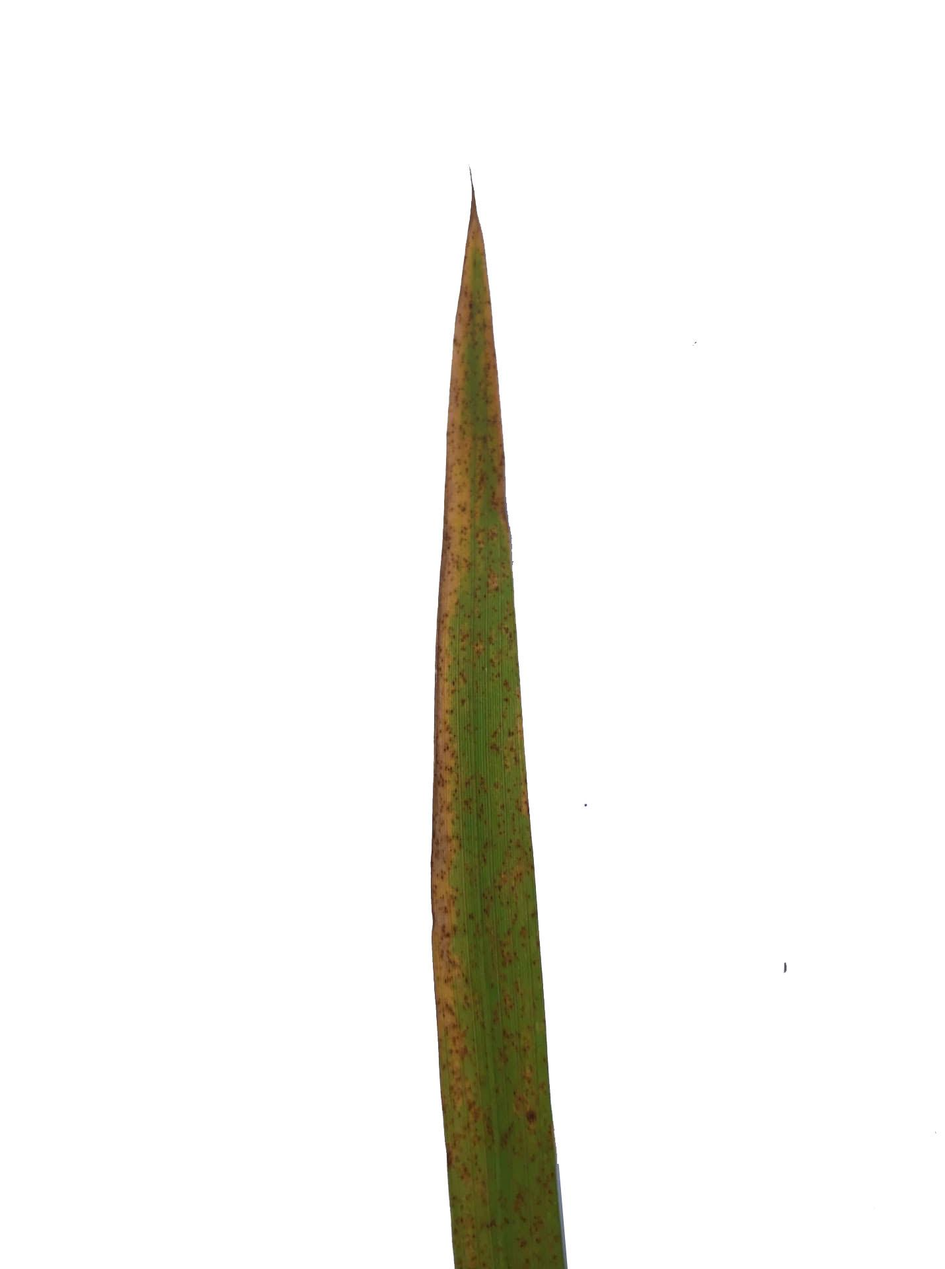Tungro: (430, 187, 569, 1269)
